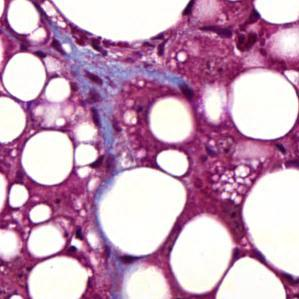steatosis: (21, 129, 79, 188), (150, 96, 199, 143), (1, 51, 46, 101)
